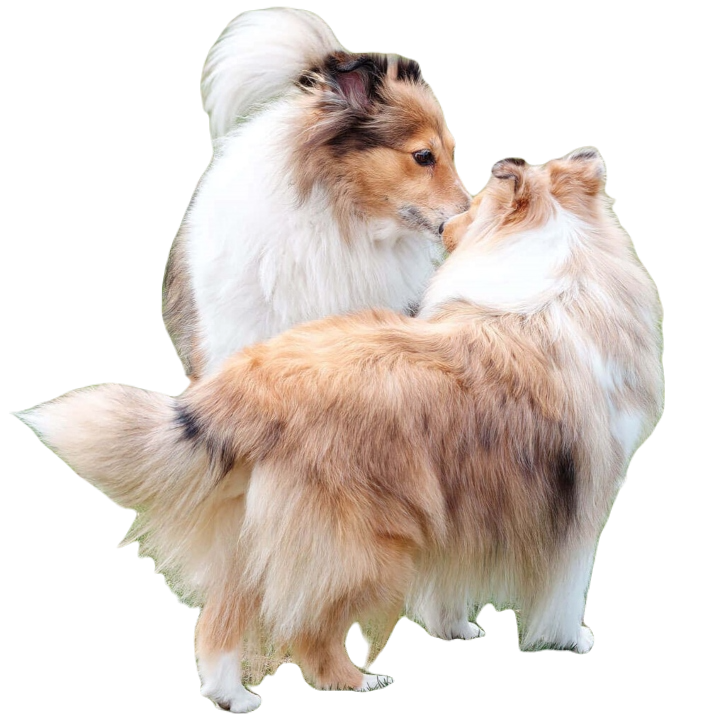Dog: (148, 0, 480, 326)
